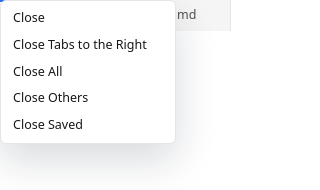
Test case: EditorTabs: the tab menu › closes itself once an entry is chosen
Click the menu item "Close".
click(88, 18)  # box [5,5,171,32]
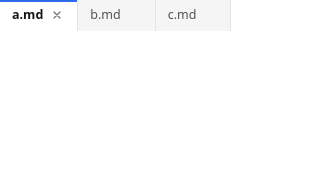
Check: the menu is gone
